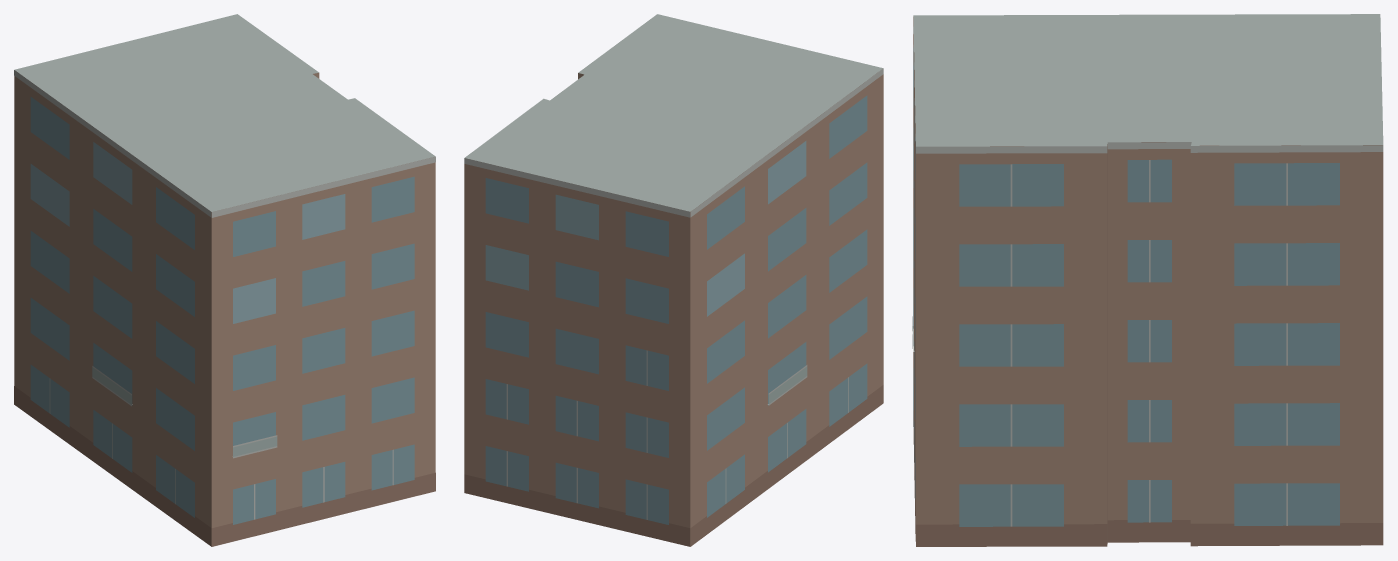
Rendered from survey-upis-32949740.glb.
3 views of the same model, side by side, from view 1: azimuth 30°, elevation 25°; view 2: azimuth 150°, elevation 25°; view 3: azimuth 270°, elevation 25° (orthographic). The views are drawn at different scales.
Visible parts, largest first — view 1: survey-upis-32949740.tmp; view 2: survey-upis-32949740.tmp; view 3: survey-upis-32949740.tmp.
Boxes of the visible parts, x1,y1,x2,y2 form: survey-upis-32949740.tmp: (14, 14, 435, 546); survey-upis-32949740.tmp: (464, 14, 883, 546); survey-upis-32949740.tmp: (912, 14, 1383, 546).
Bounding box in the file's own units: 9.89 × 13.9 × 14.83.
